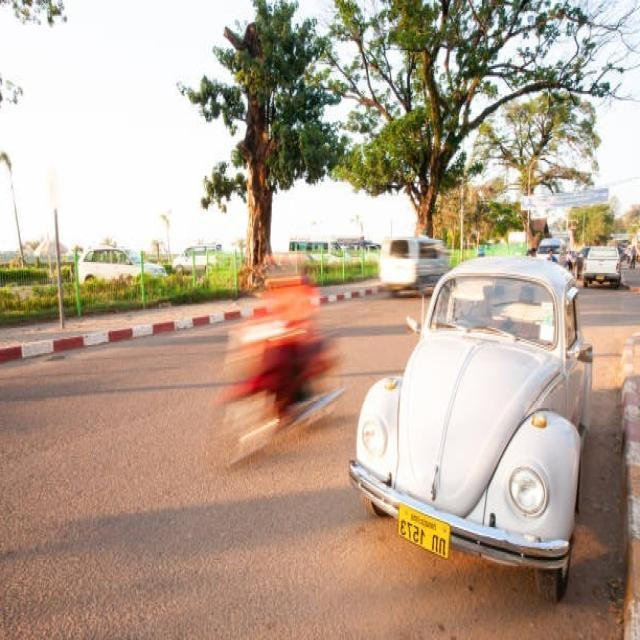car: (358, 252, 594, 594), (588, 243, 622, 286)
